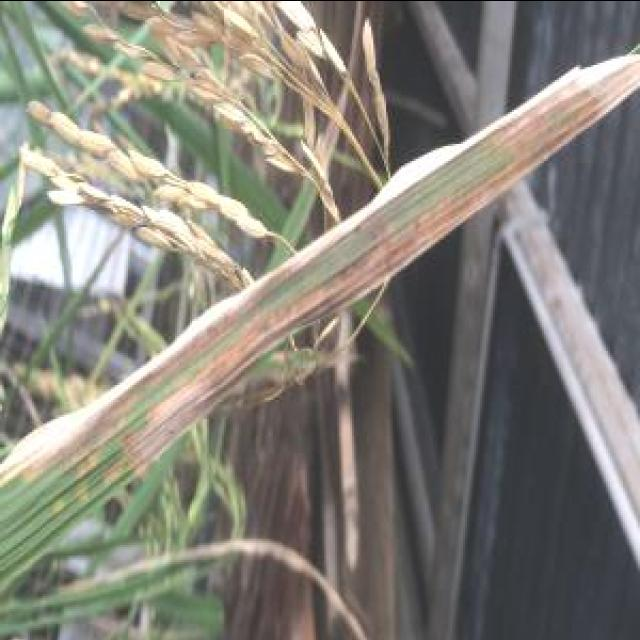Bacterial_Leaf_Blight: (2, 367, 245, 514)
